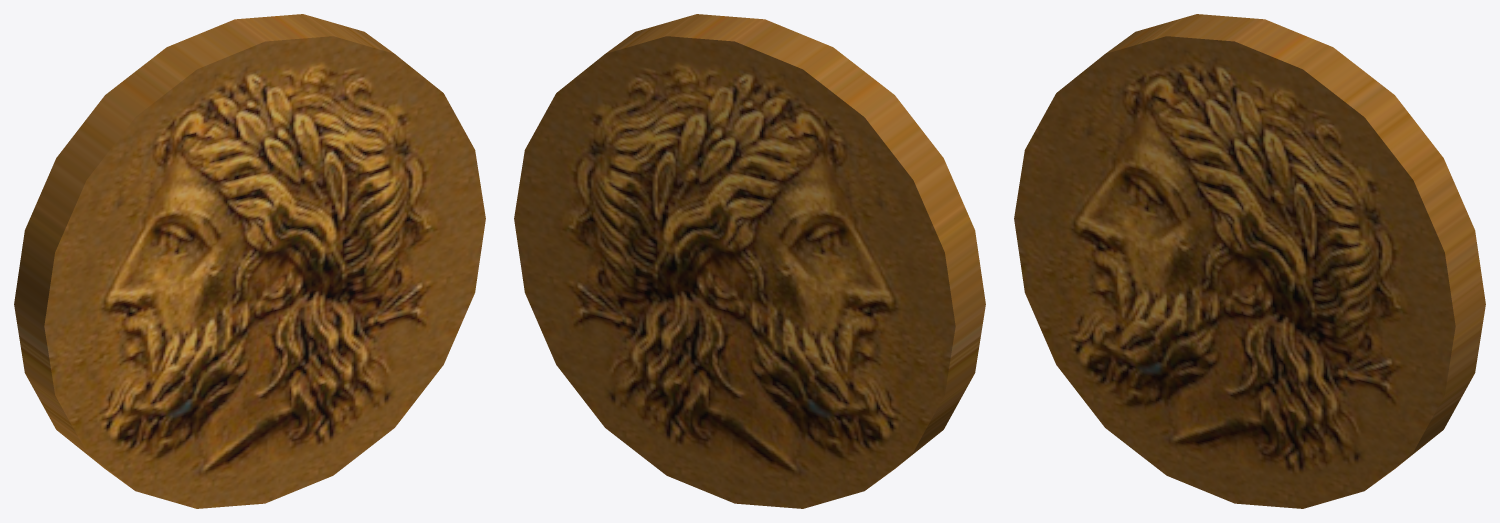
File: moneda.fbx
The picture shows the model from 3 angles, left to right: view 1: azimuth 30°, elevation 25°; view 2: azimuth 150°, elevation 25°; view 3: azimuth 330°, elevation 25°; orthographic projection.
Visible parts, largest first — view 1: pCylinder1; view 2: pCylinder1; view 3: pCylinder1.
Part boxes in pixels (box(x1,y1,x2,y2)): pCylinder1: box(14, 14, 485, 508); pCylinder1: box(514, 14, 985, 508); pCylinder1: box(1014, 14, 1485, 508).
Bounding box in the file's own units: 4.21 × 4.21 × 0.5.
Materials: 1 (1 with a texture image).
